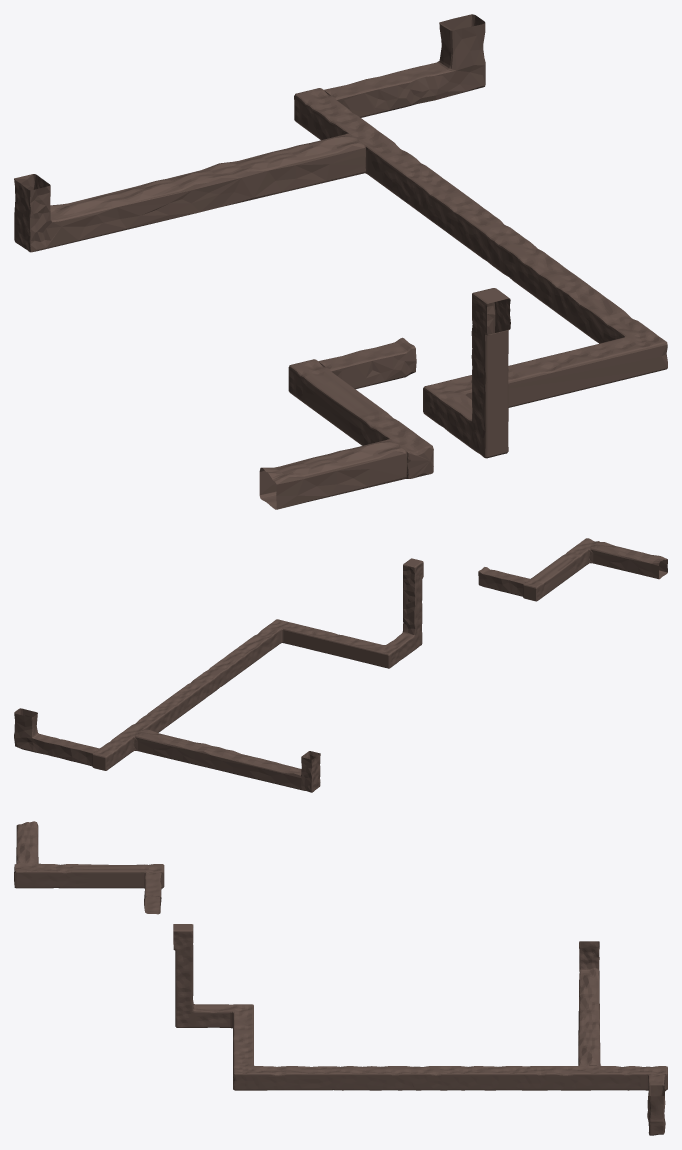
Rendered from tunele.glb.
3 views of the same model, one above another, from view 1: azimuth 30°, elevation 25°; view 2: azimuth 150°, elevation 25°; view 3: azimuth 270°, elevation 25° (orthographic). The views are drawn at different scales.
Parts seen in each view (by area): view 1: Cube.266, Cube.264; view 2: Cube.266, Cube.264; view 3: Cube.266, Cube.264.
Boxes of the visible parts, bbox=[...] form: Cube.266: bbox=[14, 14, 667, 458]; Cube.264: bbox=[259, 337, 433, 509]; Cube.266: bbox=[14, 558, 423, 792]; Cube.264: bbox=[478, 538, 667, 601]; Cube.266: bbox=[173, 924, 667, 1135]; Cube.264: bbox=[14, 821, 164, 914].
Size of the model in its own units: 59.83 by 12.56 by 75.8.
